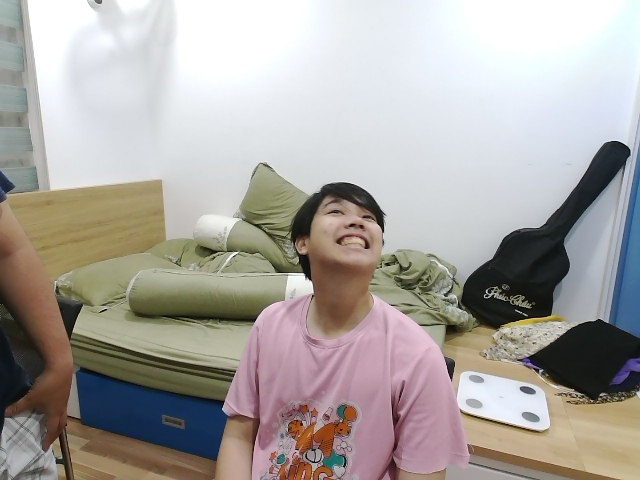face: (292, 182, 385, 267)
